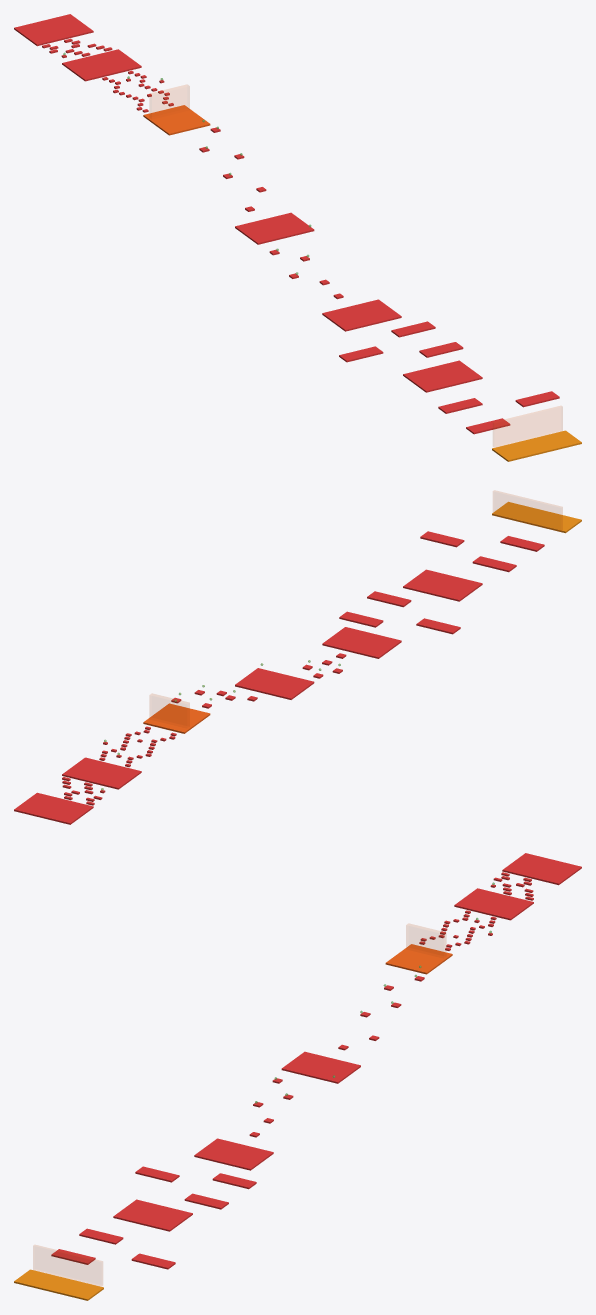
Rendered from level3.glb.
3 views of the same model, one above another, from view 1: azimuth 30°, elevation 25°; view 2: azimuth 150°, elevation 25°; view 3: azimuth 330°, elevation 25° (orthographic).
Parts seen in each view (by area): view 1: Platform.002 (×5), End_wall3, End.003, Checkpoint.004, Checkpoint_Wall.002; view 2: Platform.002 (×5), End_wall3, End.003, Checkpoint.004, Checkpoint_Wall.002; view 3: Platform.002 (×5), End_wall3, End.003, Checkpoint.004, Checkpoint_Wall.002.
Part boxes in pixels (left/top/right/bottom): Platform.002 (×5): left=14, top=14, right=482, bottom=392; End_wall3: left=493, top=406, right=562, bottom=446; End.003: left=492, top=430, right=581, bottom=461; Checkpoint.004: left=143, top=105, right=210, bottom=135; Checkpoint_Wall.002: left=150, top=85, right=189, bottom=117; Platform.002 (×5): left=14, top=569, right=482, bottom=824; End_wall3: left=493, top=491, right=562, bottom=531; End.003: left=492, top=501, right=581, bottom=533; Checkpoint.004: left=143, top=703, right=210, bottom=733; Checkpoint_Wall.002: left=150, top=694, right=189, bottom=726; Platform.002 (×5): left=113, top=853, right=581, bottom=1231; End_wall3: left=33, top=1245, right=102, bottom=1285; End.003: left=14, top=1269, right=103, bottom=1300; Checkpoint.004: left=385, top=944, right=452, bottom=974; Checkpoint_Wall.002: left=406, top=924, right=445, bottom=956.
Bounding box in the file's own units: 154 × 106 × 1091.
Materials: 3 (3 with a texture image).
